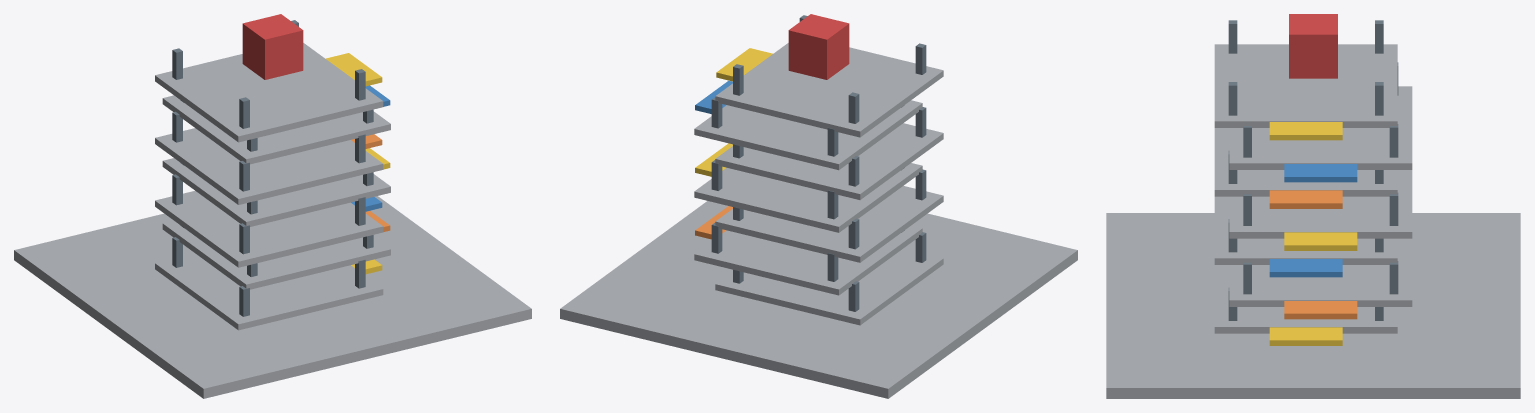
File: gpt-torre-maluca.glb
The picture shows the model from 3 angles, left to right: view 1: azimuth 30°, elevation 25°; view 2: azimuth 150°, elevation 25°; view 3: azimuth 270°, elevation 25°; orthographic projection. The views are drawn at different scales.
Parts seen in each view (by area): view 1: Torre Maluca-000, Torre Maluca-037, Torre Maluca-001, Torre Maluca-025, Torre Maluca-013, Torre Maluca-007, Torre Maluca-031, Torre Maluca-019, Torre Maluca-043, Torre Maluca-042; view 2: Torre Maluca-000, Torre Maluca-037, Torre Maluca-001, Torre Maluca-007, Torre Maluca-025, Torre Maluca-031, Torre Maluca-013, Torre Maluca-019, Torre Maluca-043, Torre Maluca-042; view 3: Torre Maluca-000, Torre Maluca-037, Torre Maluca-031, Torre Maluca-019, Torre Maluca-007, Torre Maluca-001, Torre Maluca-025, Torre Maluca-013, Torre Maluca-043, Torre Maluca-006, Torre Maluca-024, Torre Maluca-030 (+4 smaller).
Part boxes in pixels (x1,y1,x2,y2): Torre Maluca-000: [14, 196, 531, 398]; Torre Maluca-037: [155, 43, 383, 142]; Torre Maluca-001: [155, 253, 383, 330]; Torre Maluca-025: [155, 128, 383, 204]; Torre Maluca-013: [155, 191, 383, 267]; Torre Maluca-007: [162, 220, 390, 289]; Torre Maluca-031: [162, 95, 390, 164]; Torre Maluca-019: [162, 158, 390, 226]; Torre Maluca-043: [242, 14, 303, 79]; Torre Maluca-042: [326, 53, 382, 86]; Torre Maluca-000: [560, 201, 1077, 398]; Torre Maluca-037: [715, 43, 943, 137]; Torre Maluca-001: [715, 248, 943, 325]; Torre Maluca-007: [694, 225, 922, 295]; Torre Maluca-025: [715, 123, 943, 199]; Torre Maluca-031: [694, 100, 922, 170]; Torre Maluca-013: [715, 186, 943, 262]; Torre Maluca-019: [694, 163, 922, 232]; Torre Maluca-043: [788, 14, 849, 79]; Torre Maluca-042: [716, 48, 772, 81]; Torre Maluca-000: [1106, 213, 1520, 398]; Torre Maluca-037: [1214, 44, 1397, 127]; Torre Maluca-031: [1229, 86, 1412, 169]; Torre Maluca-019: [1229, 170, 1412, 238]; Torre Maluca-007: [1229, 238, 1412, 306]; Torre Maluca-001: [1214, 265, 1397, 333]; Torre Maluca-025: [1214, 128, 1397, 196]; Torre Maluca-013: [1214, 196, 1397, 264]; Torre Maluca-043: [1289, 14, 1337, 78]; Torre Maluca-006: [1269, 327, 1342, 345]; Torre Maluca-024: [1284, 232, 1357, 250]; Torre Maluca-030: [1269, 190, 1342, 208].
Bounding box in the file's own units: 34 × 26 × 34.
